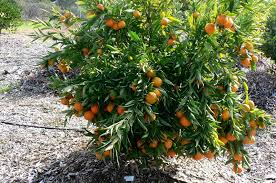orange: (202, 24, 217, 37), (144, 91, 157, 103)
